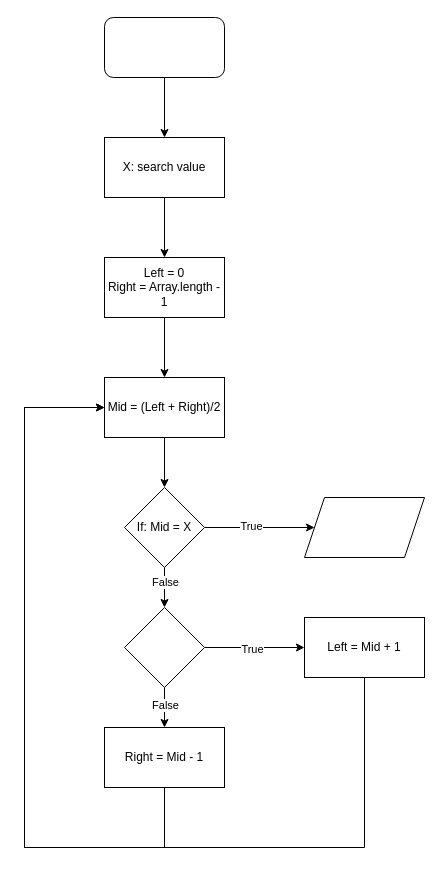
This 442x873 diagram has some shape labels left out. Here are the shapes that lost their labels. From the top down, the centre of each, then its label:
At pixel 164 47: "Binary Search".
At pixel 364 527: "Value Found".
At pixel 164 647: "If: Mid < X".
